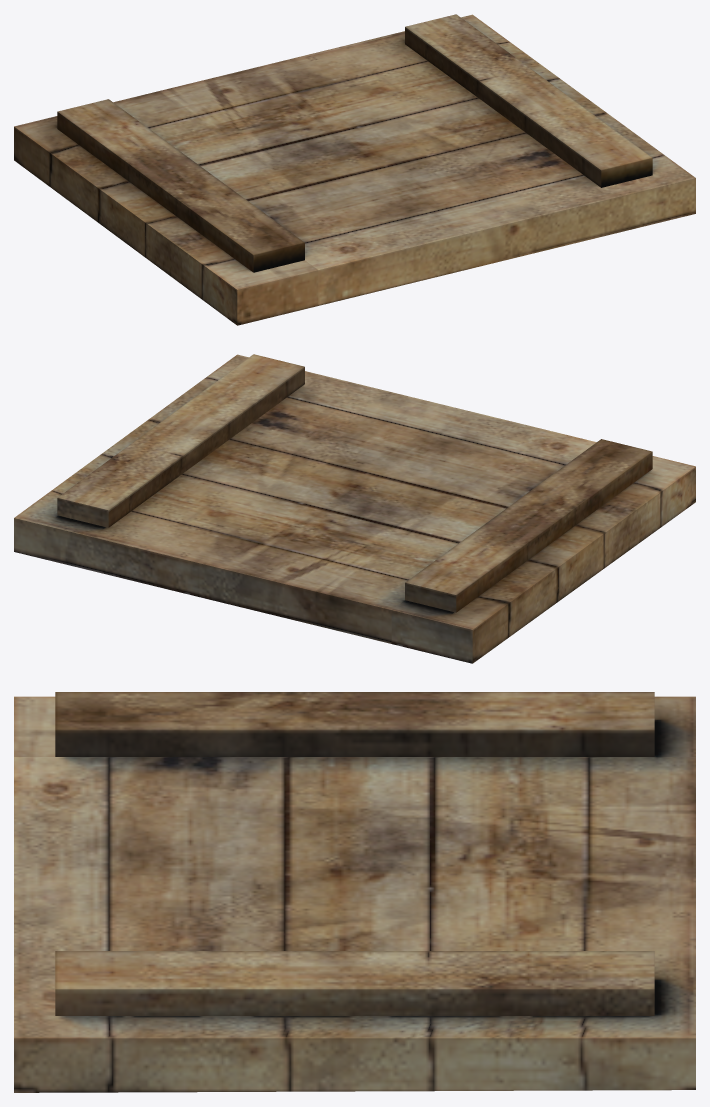
Rendered from MediumTank_Gear_Crate_02_Open_Lid.FBX.
3 renders of one model, top to bottom at view 1: azimuth 30°, elevation 25°; view 2: azimuth 150°, elevation 25°; view 3: azimuth 270°, elevation 25°, orthographic. The views are drawn at different scales.
Parts seen in each view (by area): view 1: MediumTank_Gear_Crate_02_Open_Lid; view 2: MediumTank_Gear_Crate_02_Open_Lid; view 3: MediumTank_Gear_Crate_02_Open_Lid.
Boxes of the visible parts, x1,y1,x2,y2 form: MediumTank_Gear_Crate_02_Open_Lid: (14, 14, 695, 325); MediumTank_Gear_Crate_02_Open_Lid: (14, 354, 695, 663); MediumTank_Gear_Crate_02_Open_Lid: (14, 692, 695, 1092).
Size of the model in its own units: 0.6637 by 0.0737 by 0.5598.
